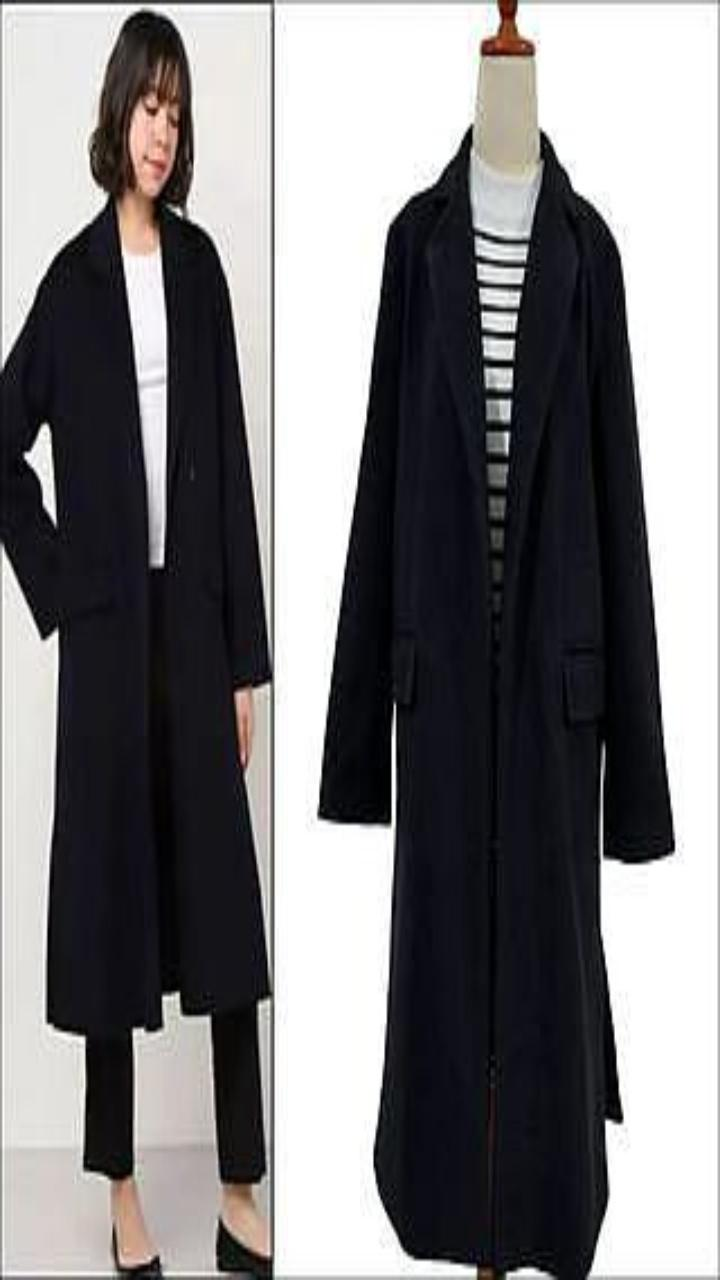Coat: (320, 130, 674, 1279), (0, 197, 270, 1033)
T-Shirt: (469, 149, 542, 666), (122, 245, 166, 566)
